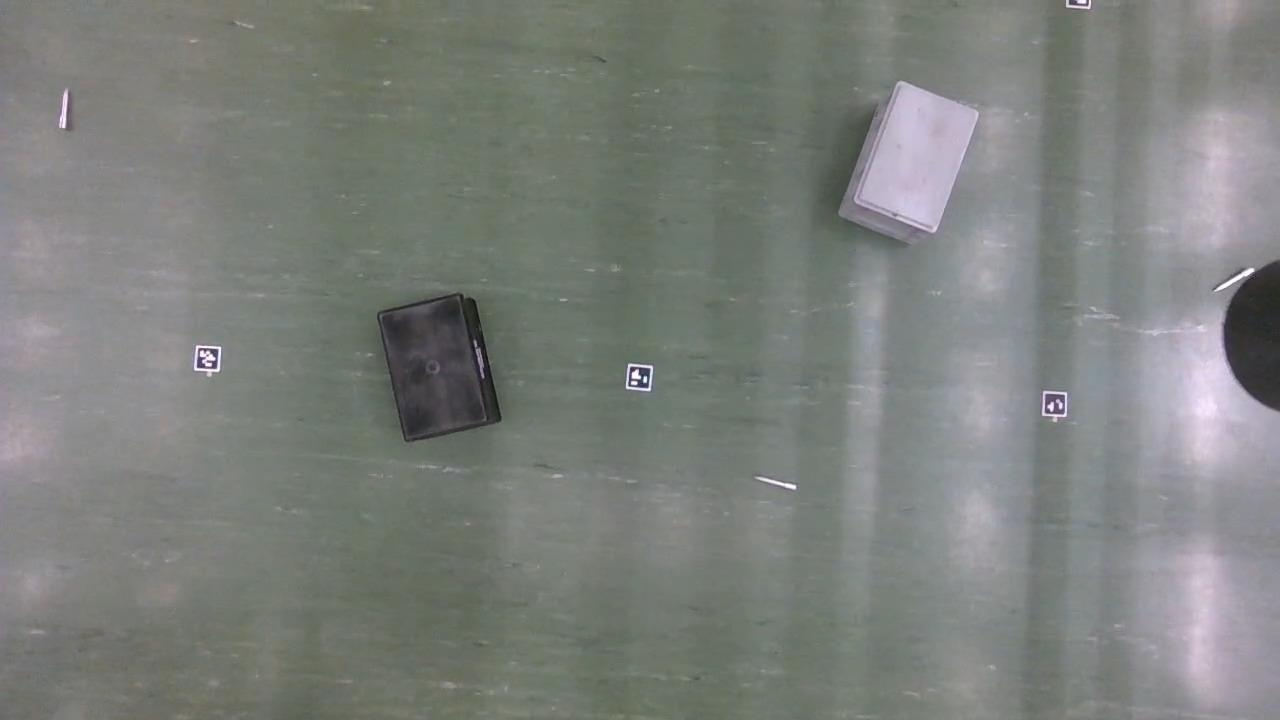probes: (1216, 266, 1255, 294), (756, 476, 795, 491), (59, 90, 70, 132)
rako: (836, 82, 980, 249), (378, 295, 502, 445)
